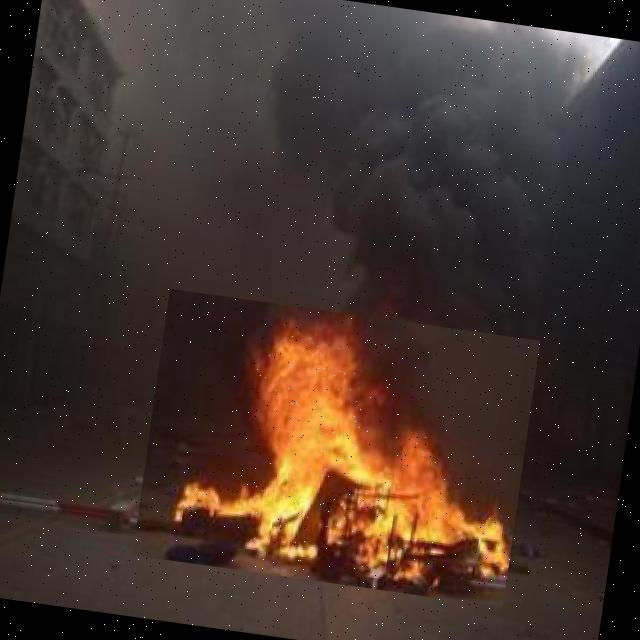fire: (132, 289, 540, 607)
